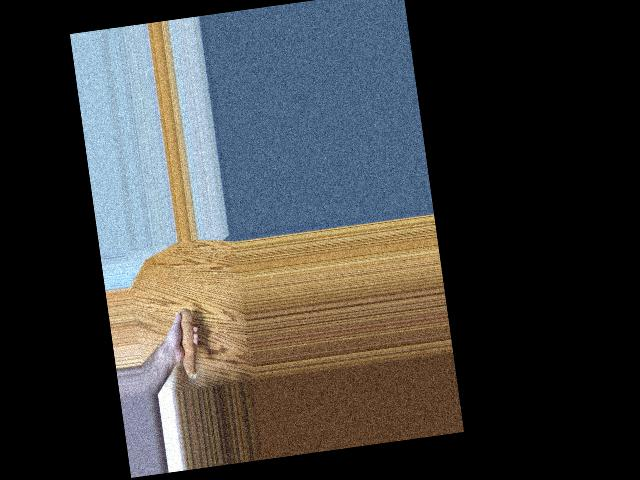sweet_potato: (170, 302, 204, 381)
